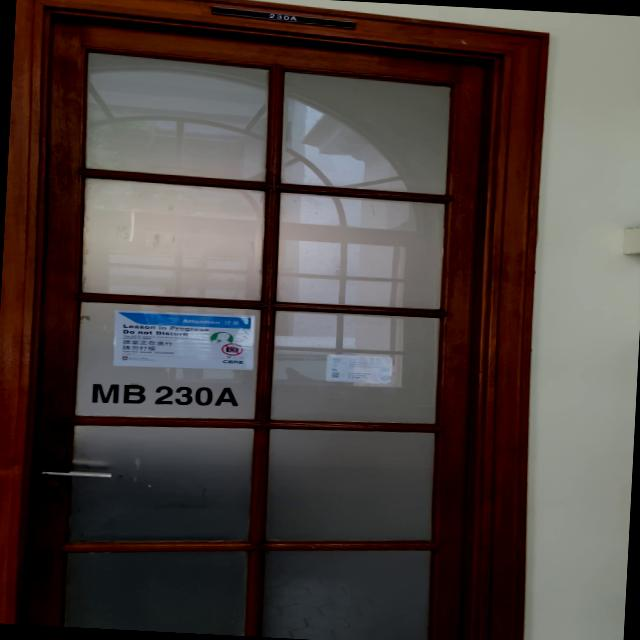room230A: (208, 4, 362, 32)
room230AWindow: (84, 377, 248, 413)
